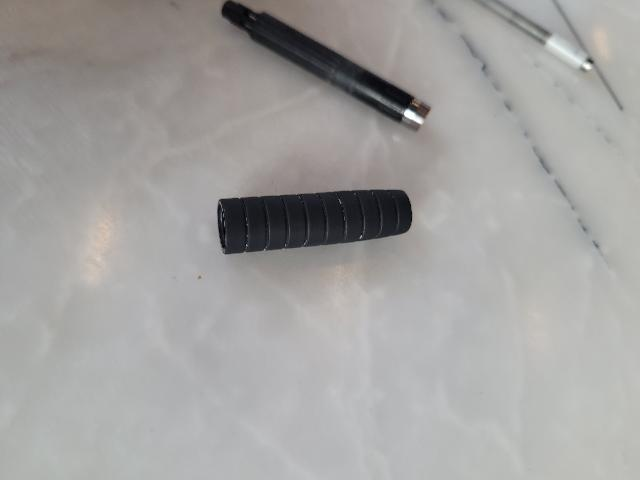Plastik: (217, 163, 421, 268)
